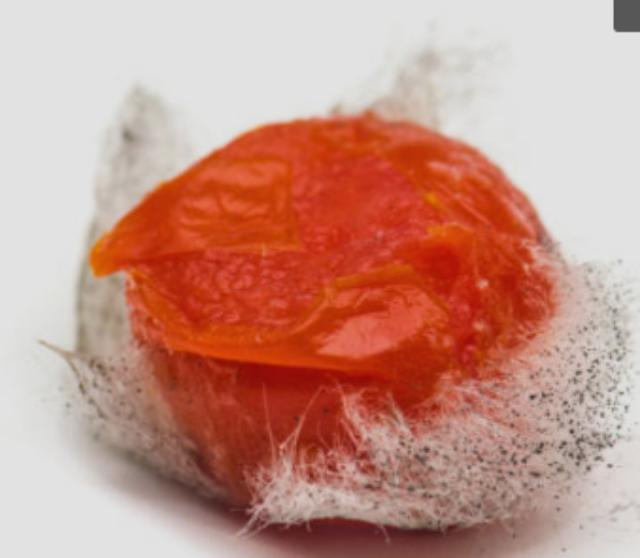defect: (74, 40, 639, 558)
